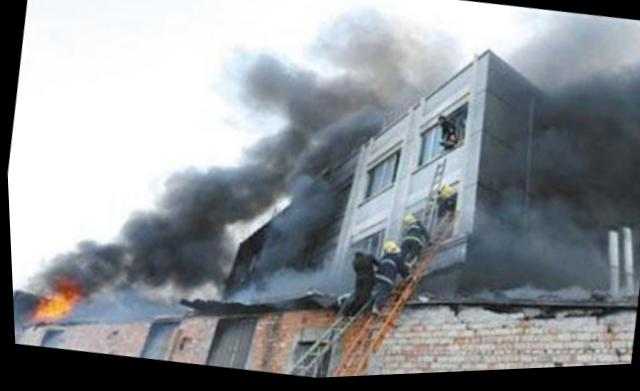fire: (30, 274, 79, 325)
